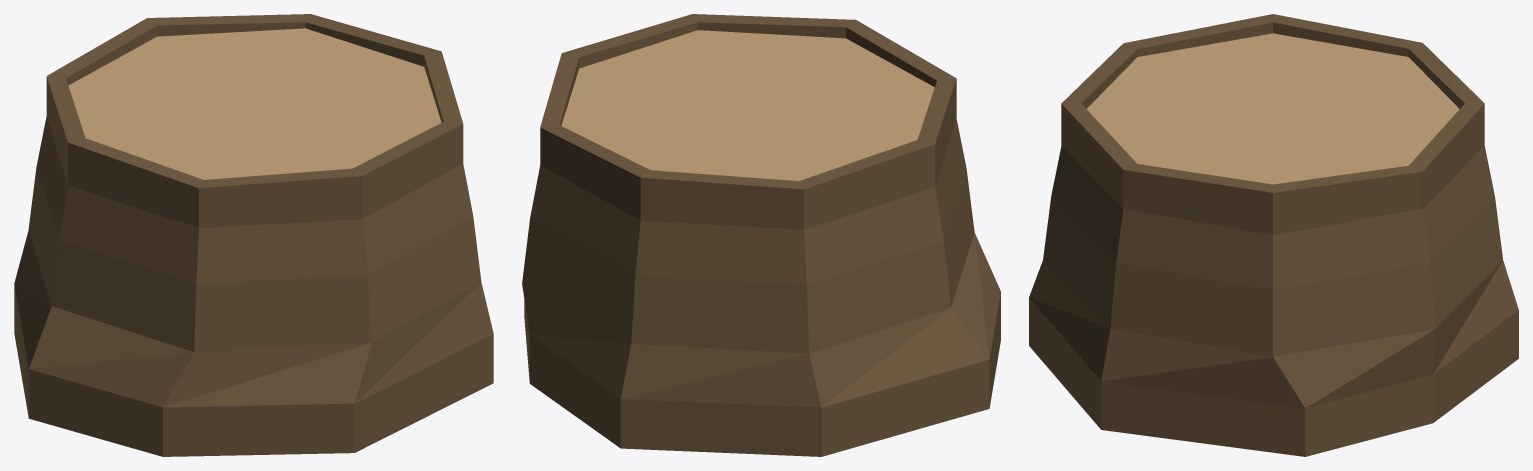
File: stump_01.FBX
3 renders of one model, left to right at view 1: azimuth 30°, elevation 25°; view 2: azimuth 150°, elevation 25°; view 3: azimuth 270°, elevation 25°, orthographic.
Parts seen in each view (by area): view 1: tree_stump_01; view 2: tree_stump_01; view 3: tree_stump_01.
Part boxes in pixels (x1,y1,x2,y2): tree_stump_01: [14, 14, 493, 456]; tree_stump_01: [522, 14, 1000, 456]; tree_stump_01: [1029, 14, 1518, 456].
Size of the model in its own units: 23.21 by 13.01 by 22.74.
Materials: 1 (1 with a texture image).
